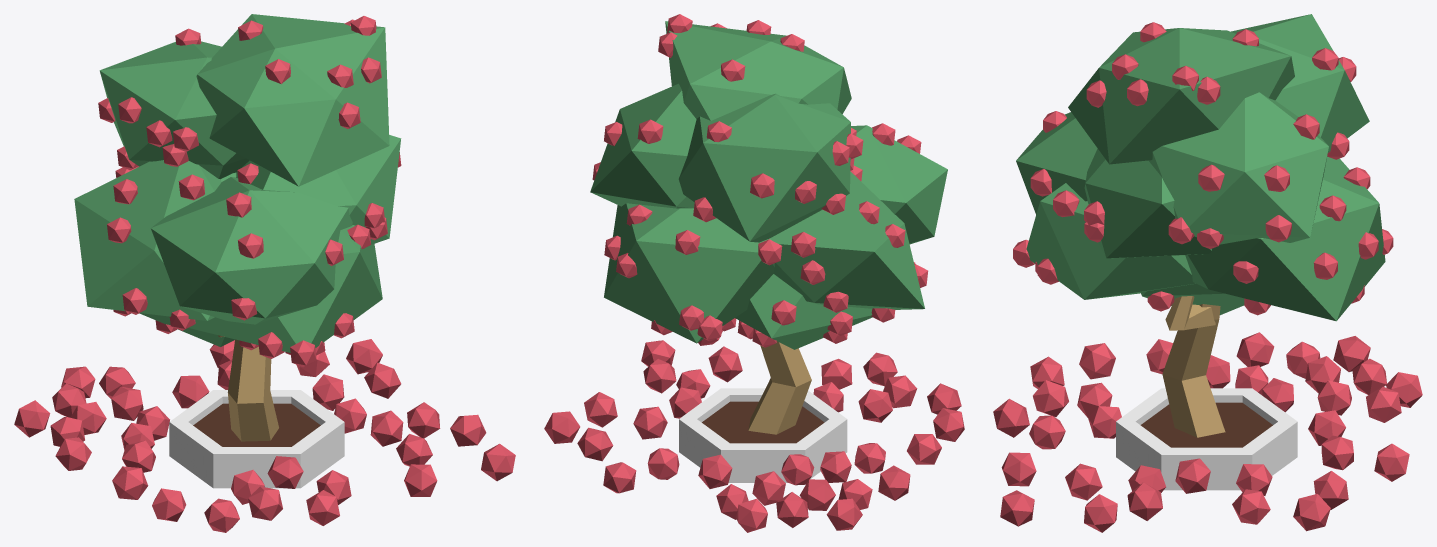
File: FruitTree.fbx
3 views of the same model, side by side, from view 1: azimuth 30°, elevation 25°; view 2: azimuth 150°, elevation 25°; view 3: azimuth 270°, elevation 25° (orthographic). The views are drawn at different scales.
Visible parts, largest first — view 1: FruitTree, Apples; view 2: FruitTree, Apples; view 3: FruitTree, Apples.
Part boxes in pixels (box(x1,y1,x2,y2)): FruitTree: box(74, 14, 401, 488); Apples: box(14, 16, 515, 532); FruitTree: box(590, 21, 947, 482); Apples: box(544, 14, 964, 532); FruitTree: box(1016, 14, 1385, 490); Apples: box(993, 22, 1422, 532).
Size of the model in its own units: 4.26 by 4.98 by 4.35.
